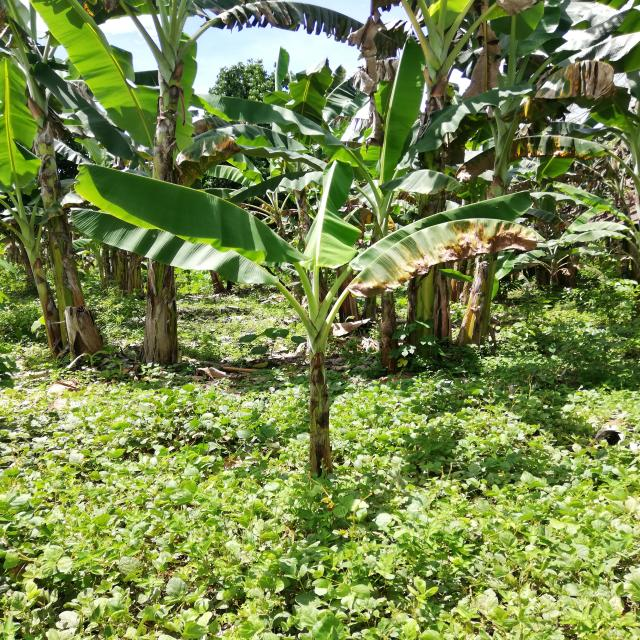Banana-plant: (13, 59, 109, 371), (145, 31, 192, 381), (470, 119, 520, 344), (296, 318, 344, 479)
